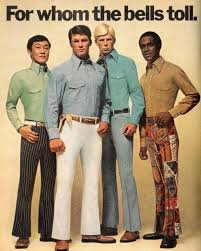F_belt: (60, 111, 102, 133), (104, 101, 137, 121), (19, 115, 53, 134)
